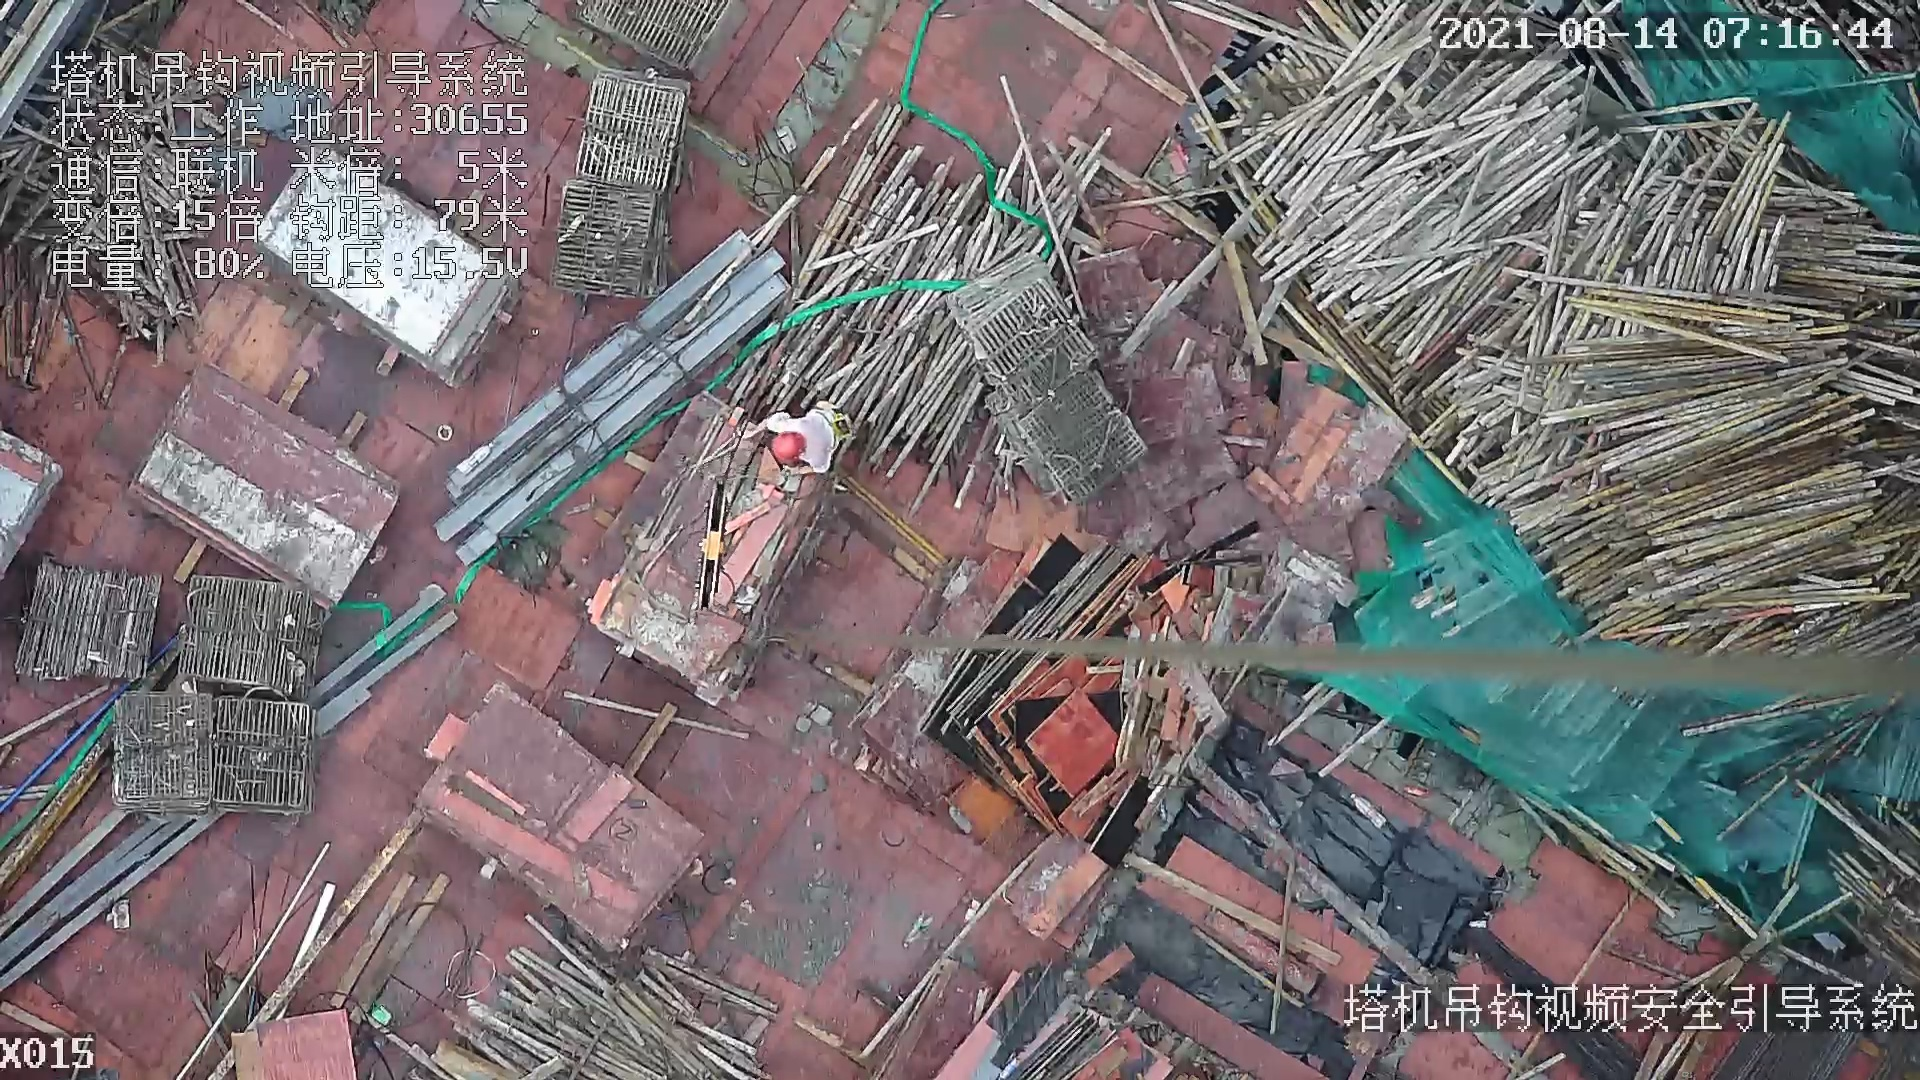helmet: (766, 424, 811, 471)
hook: (692, 477, 727, 614)
person: (741, 403, 850, 472)
